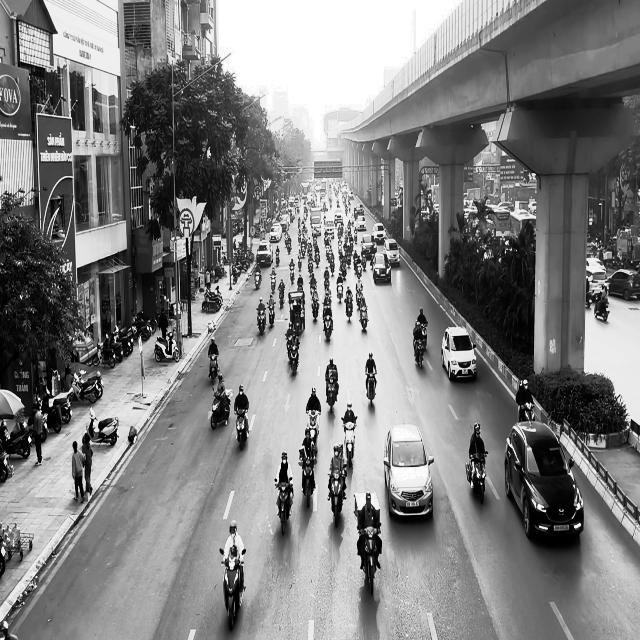car: (504, 419, 584, 540), (383, 423, 434, 518), (441, 325, 477, 382), (372, 252, 391, 283)
motorbike: (219, 546, 246, 630), (358, 523, 382, 594), (327, 466, 347, 527), (465, 451, 488, 504), (298, 447, 317, 507), (274, 478, 293, 535), (210, 387, 232, 430), (154, 330, 179, 362), (342, 419, 356, 466), (285, 335, 300, 376), (235, 407, 249, 450), (594, 285, 610, 321), (306, 409, 320, 450), (325, 373, 339, 412), (365, 370, 377, 406), (412, 334, 424, 368), (322, 304, 333, 340), (518, 401, 534, 423), (208, 354, 218, 387), (256, 306, 266, 335), (344, 294, 353, 321), (267, 300, 275, 327), (278, 286, 285, 308), (254, 270, 262, 289), (270, 274, 276, 293)
